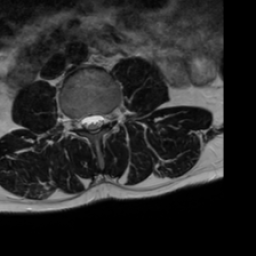CCS_normal: (89, 104, 96, 142)
LFS_normal: (104, 102, 112, 132)
LLS_normal: (96, 104, 104, 135)
RFS_normal: (72, 107, 81, 136)
RLS_normal: (81, 106, 89, 136)
